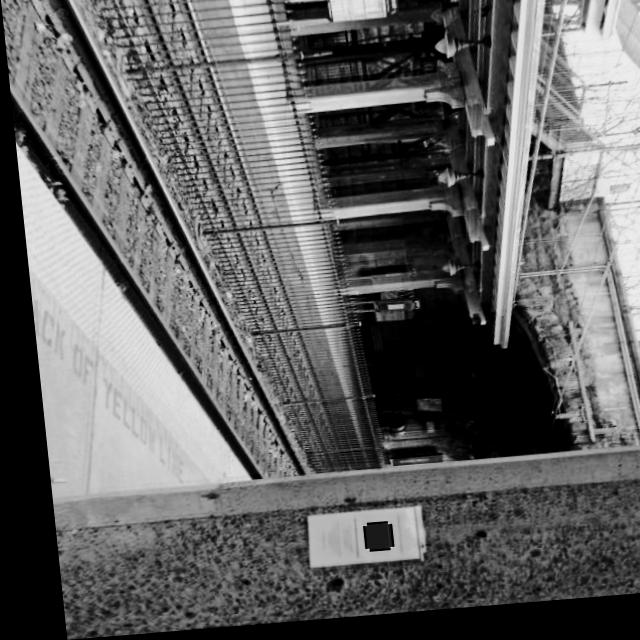qr_code: (352, 529, 379, 555)
